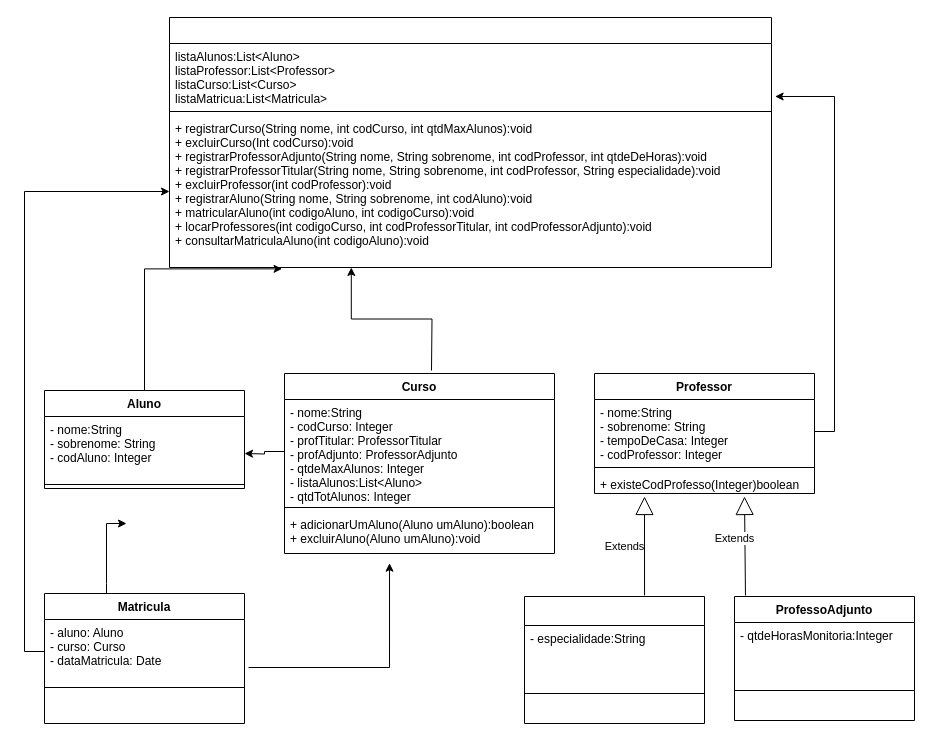
Some shapes in this 932 by 744 pixel diagram are drawn without their labels. The shapes that lost their labels are listed below. From the top down, each one's box as (x1, y1, x2, y2) in pixels, then its label:
(168, 16, 772, 268): DigitalHouseManager
(524, 596, 704, 724): ProfessorTitular
